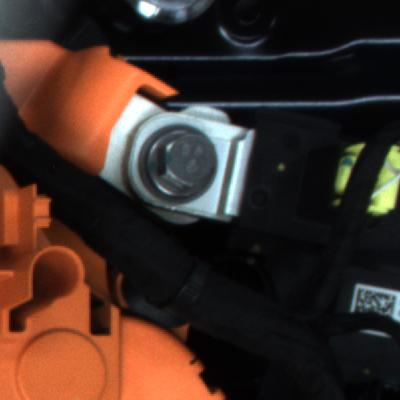nut_b: (135, 119, 237, 213)
